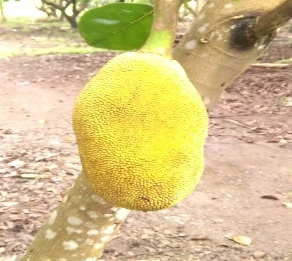Mit: (73, 52, 208, 212)
